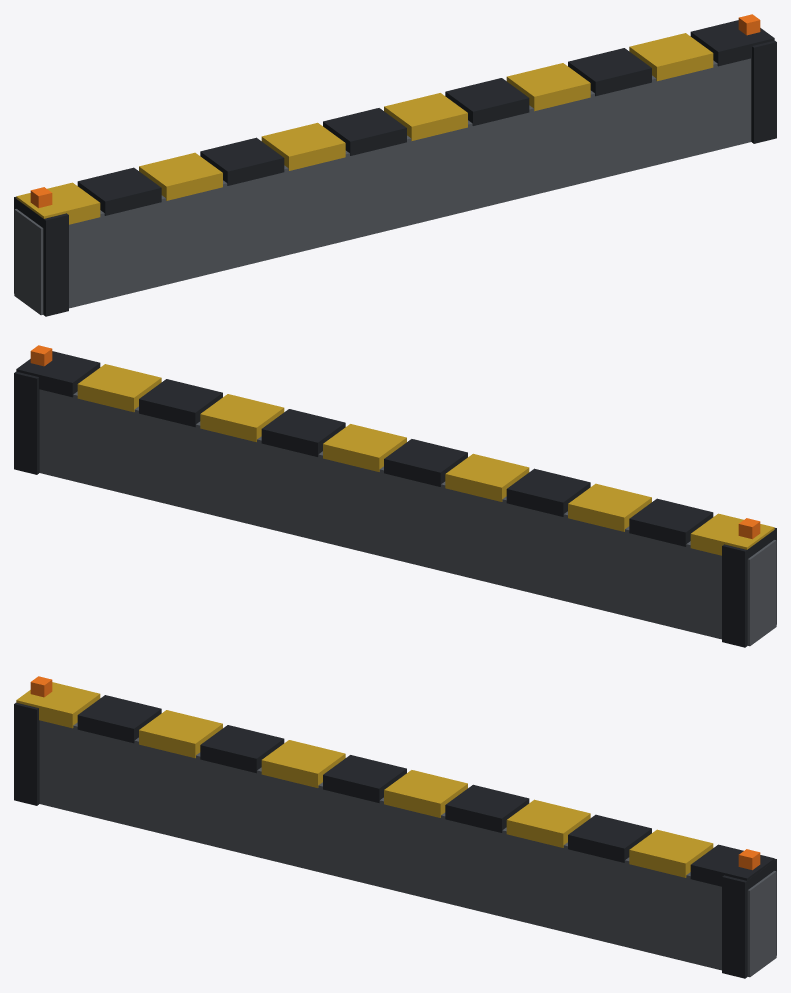
Rendered from desktop.glb.
3 renders of one model, top to bottom at view 1: azimuth 30°, elevation 25°; view 2: azimuth 150°, elevation 25°; view 3: azimuth 330°, elevation 25°, orthographic.
Parts seen in each view (by area): view 1: portal-closure; view 2: portal-closure; view 3: portal-closure.
Part boxes in pixels (box(x1,y1,x2,y2)): portal-closure: box(14, 14, 776, 316); portal-closure: box(14, 345, 776, 647); portal-closure: box(14, 676, 776, 978).
Bounding box in the file's own units: 16 × 2.3 × 1.2.
